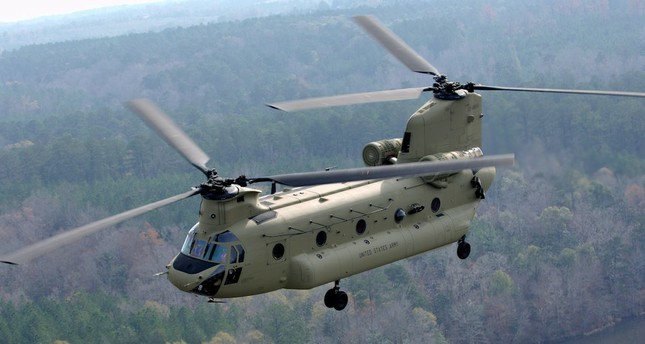chinook: (119, 82, 512, 303)
